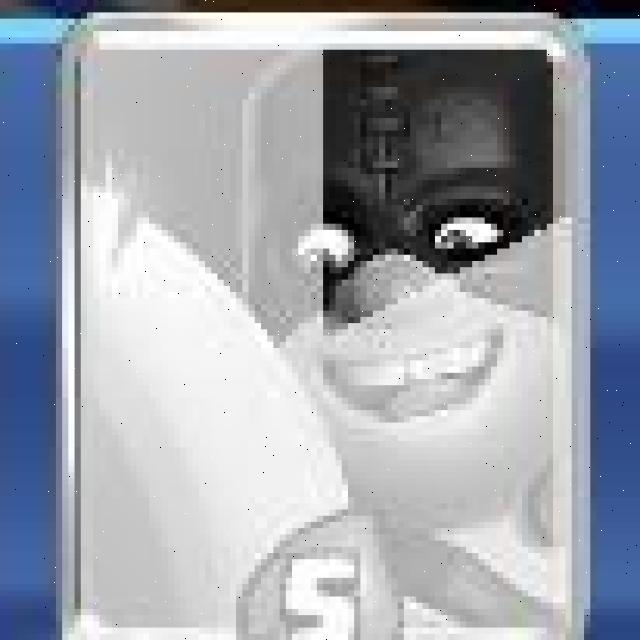Executioner: (60, 17, 598, 640)
